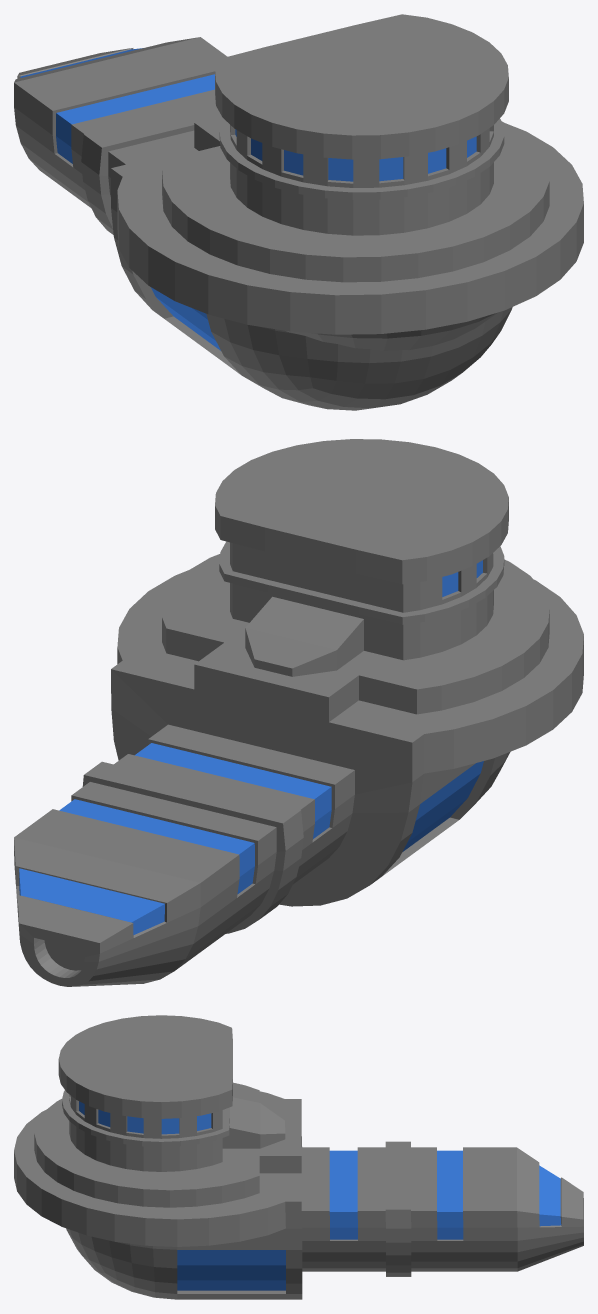
The model's file is spaceship.fbx.
3 views of the same model, one above another, from view 1: azimuth 30°, elevation 25°; view 2: azimuth 150°, elevation 25°; view 3: azimuth 270°, elevation 25° (orthographic). The views are drawn at different scales.
Visible parts, largest first — view 1: Cylinder; view 2: Cylinder; view 3: Cylinder.
Part boxes in pixels (box(x1,y1,x2,y2)): Cylinder: box(14, 14, 583, 410); Cylinder: box(14, 439, 583, 986); Cylinder: box(14, 1015, 583, 1299).
Bounding box in the file's own units: 200 × 154 × 349.
